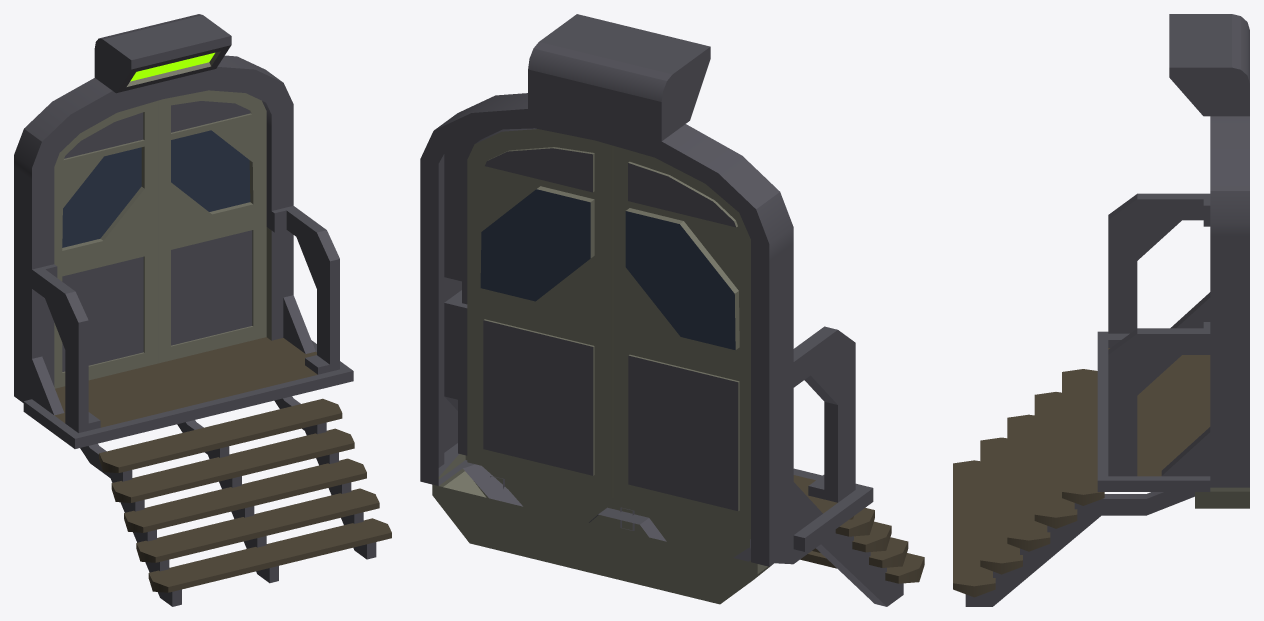
Rendered from LPSciFi_DoorWithStairs.fbx.
3 renders of one model, left to right at view 1: azimuth 30°, elevation 25°; view 2: azimuth 150°, elevation 25°; view 3: azimuth 270°, elevation 25°, orthographic. The views are drawn at different scales.
Parts seen in each view (by area): view 1: DoorWithStairs; view 2: DoorWithStairs; view 3: DoorWithStairs.
Boxes of the visible parts, box(x1,y1,x2,y2) form: DoorWithStairs: box(14, 14, 391, 606); DoorWithStairs: box(420, 14, 924, 606); DoorWithStairs: box(953, 14, 1249, 606).
Size of the model in its own units: 279 by 446 by 235.
